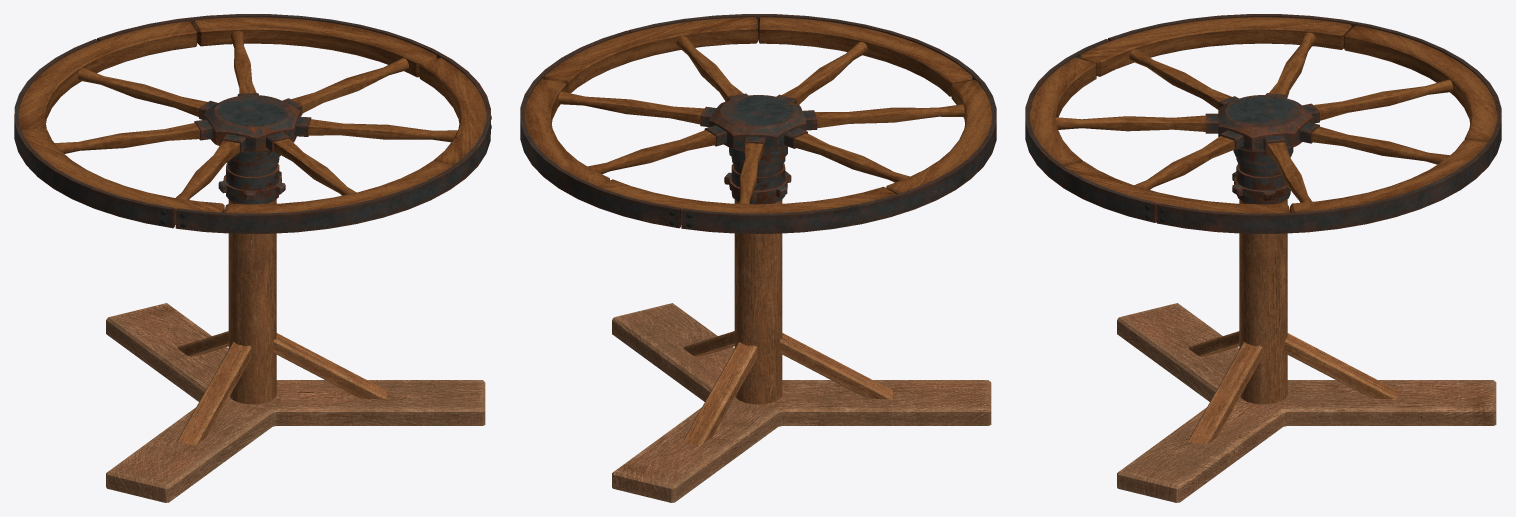
Rendered from breaking_wheel.obj.
3 views of the same model, side by side, from view 1: azimuth 30°, elevation 25°; view 2: azimuth 150°, elevation 25°; view 3: azimuth 270°, elevation 25° (orthographic).
Parts seen in each view (by area): view 1: obj2, obj1; view 2: obj2, obj1; view 3: obj2, obj1.
Part boxes in pixels (bbox=[...]): obj2: bbox=[14, 14, 491, 233]; obj1: bbox=[106, 199, 485, 502]; obj2: bbox=[520, 14, 996, 233]; obj1: bbox=[612, 199, 991, 502]; obj2: bbox=[1025, 14, 1501, 233]; obj1: bbox=[1117, 199, 1496, 502].
Bounding box in the file's own units: 1.67 × 1.16 × 1.67.
Materials: 1 (1 with a texture image).
